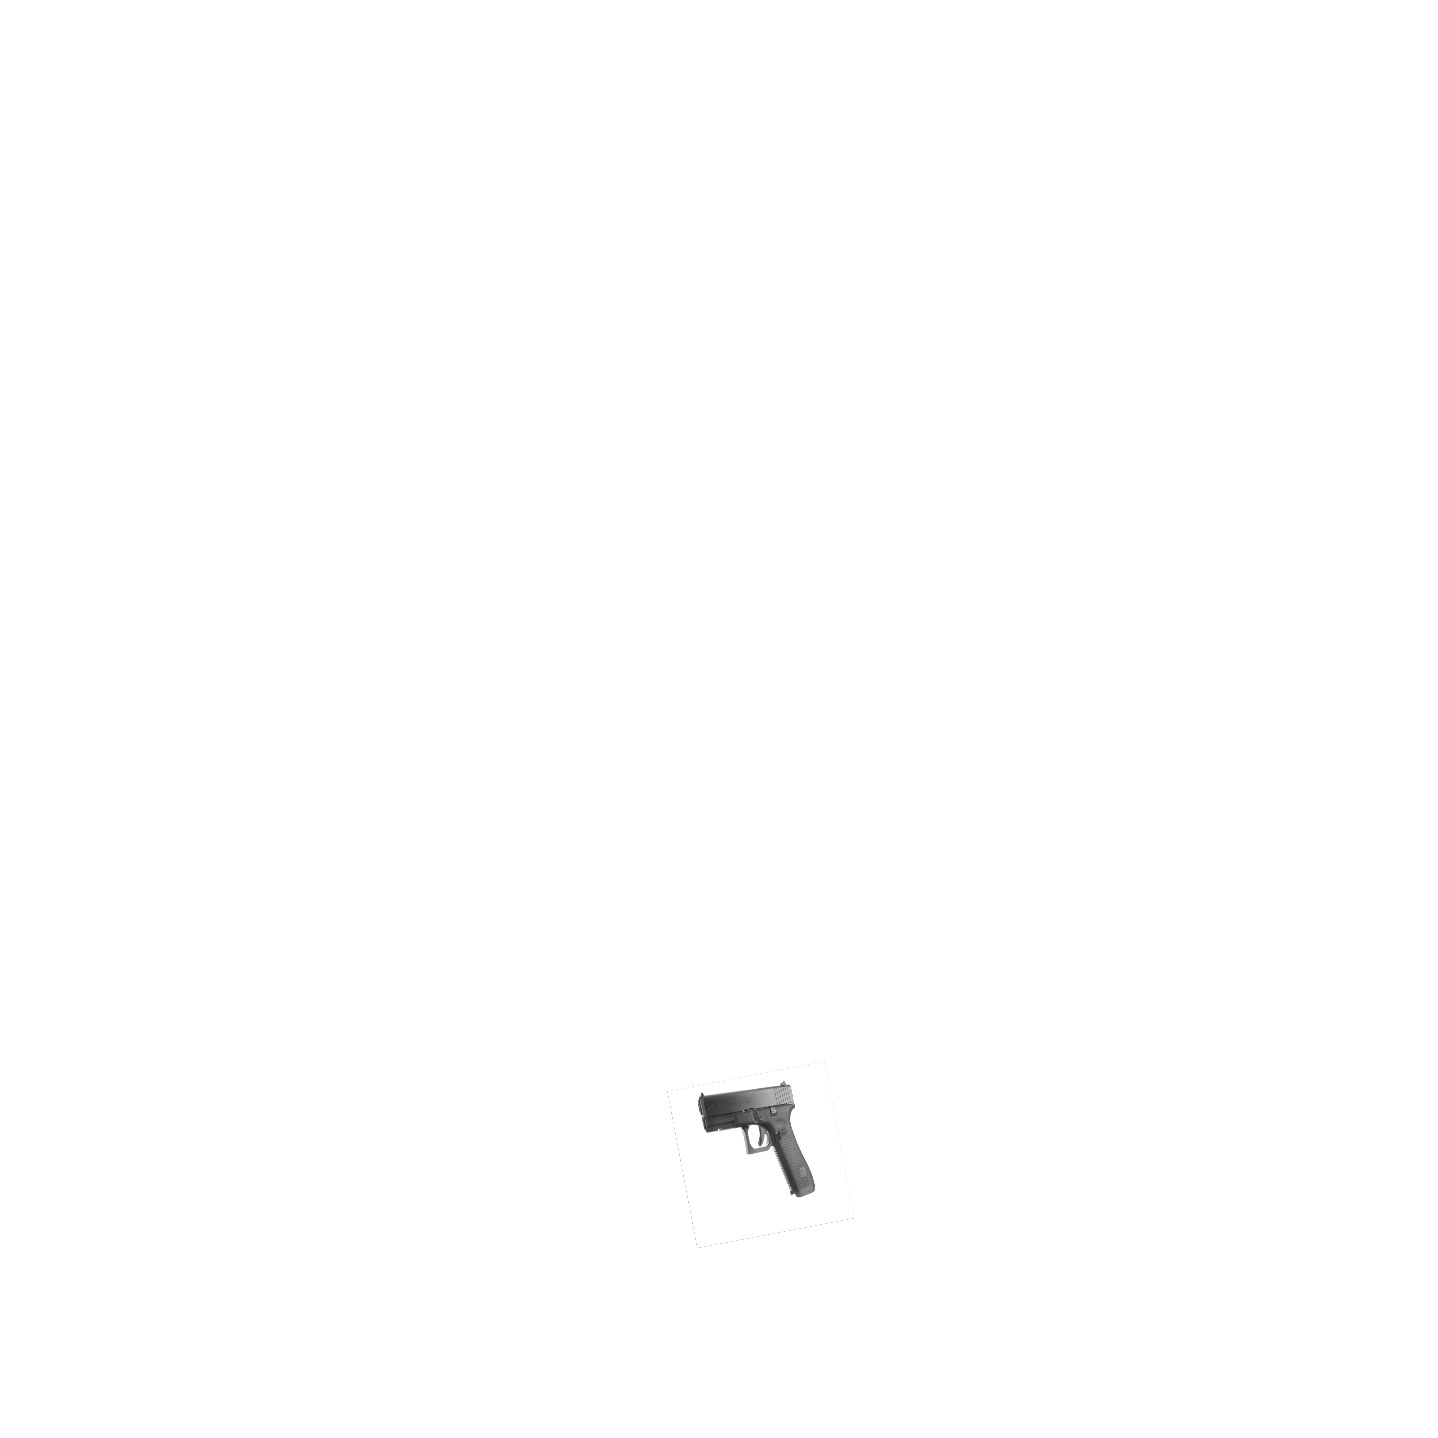gun: (698, 1081, 816, 1197)
